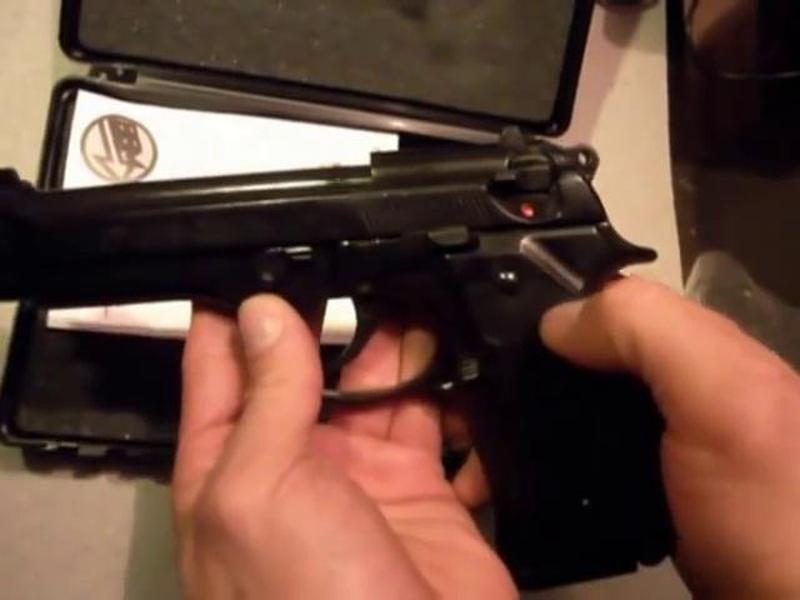Pistola: (23, 143, 669, 581)
